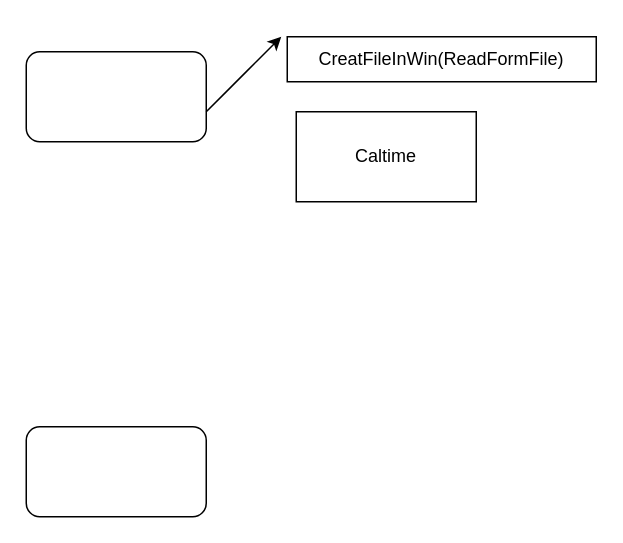
This 623x543 diagram has some shape labels left out. The shapes that lost their labels are listed below. From the top down, each one's box as (x1, y1, x2, y2) in pixels, then its label:
(25, 50, 206, 142): CreatMainWin
(25, 425, 206, 517): ReadRefcatalog
